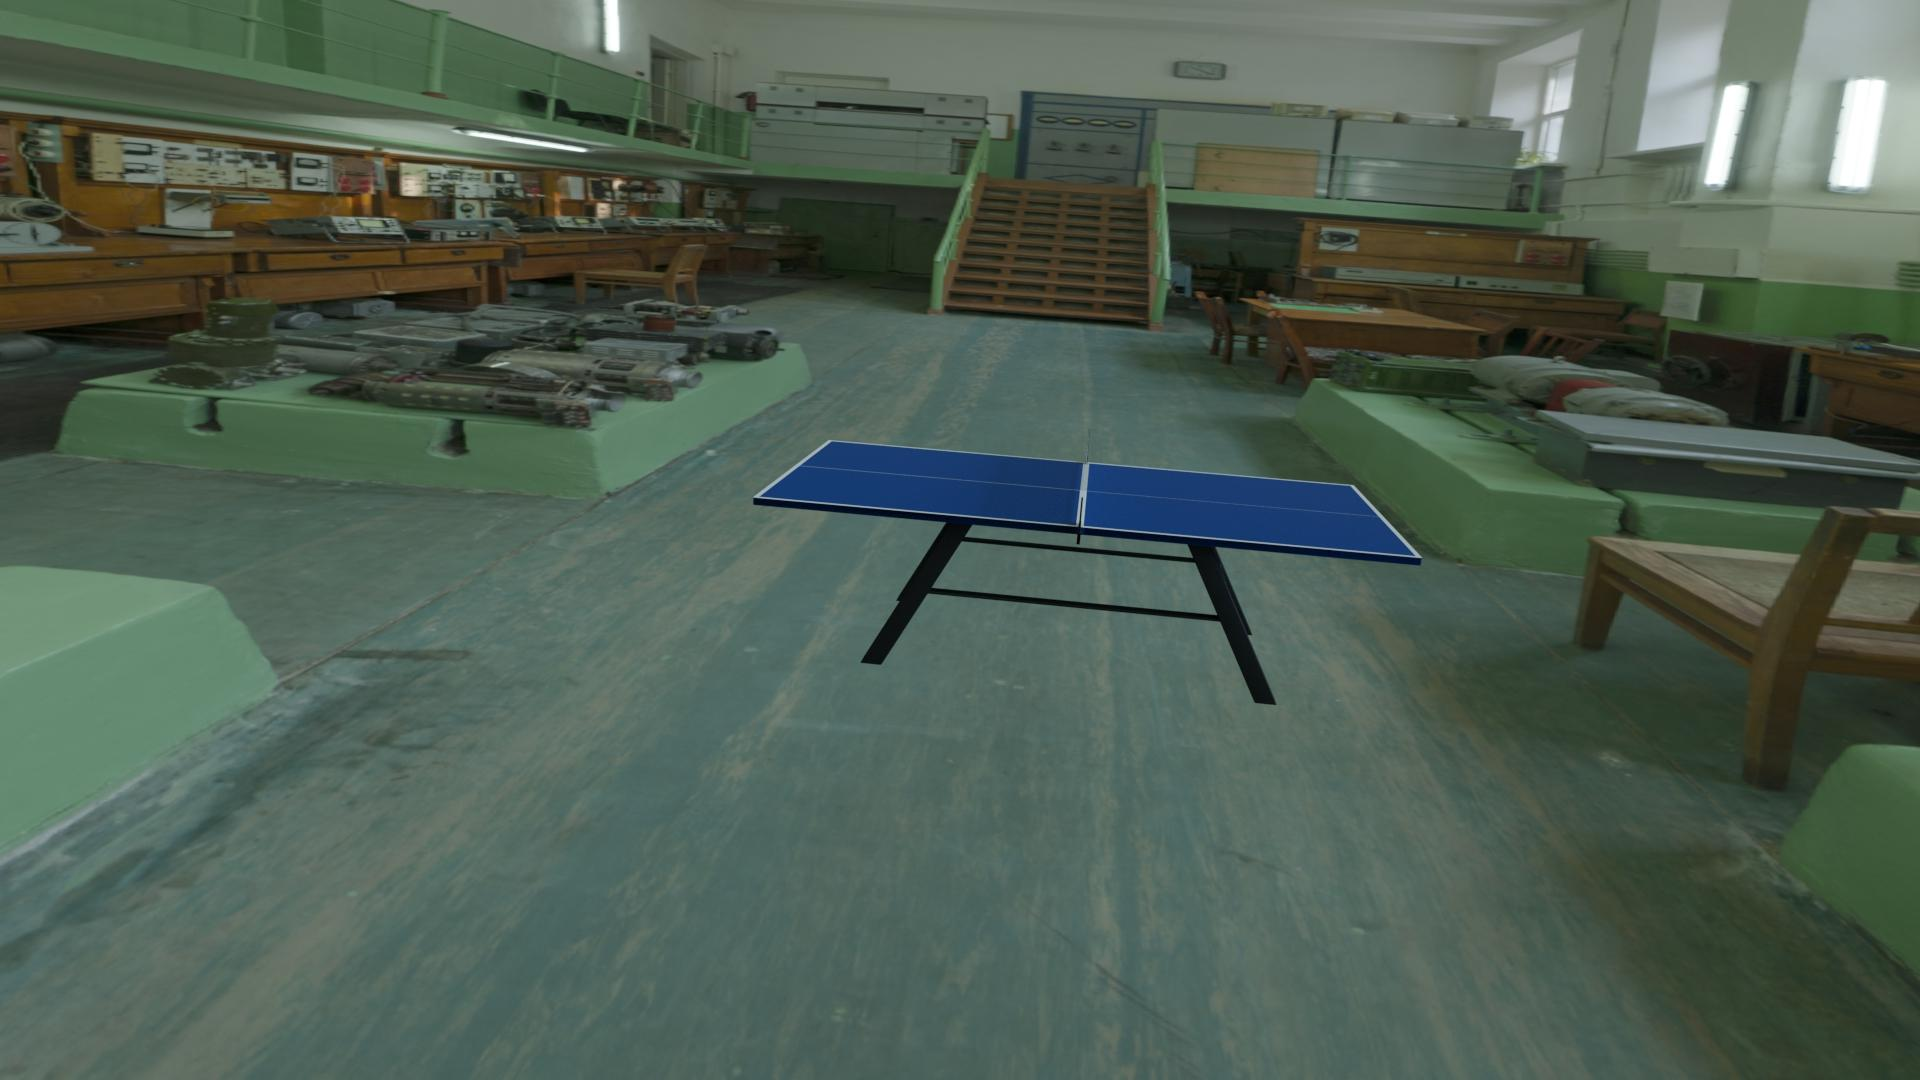table: (759, 441, 1416, 556)
